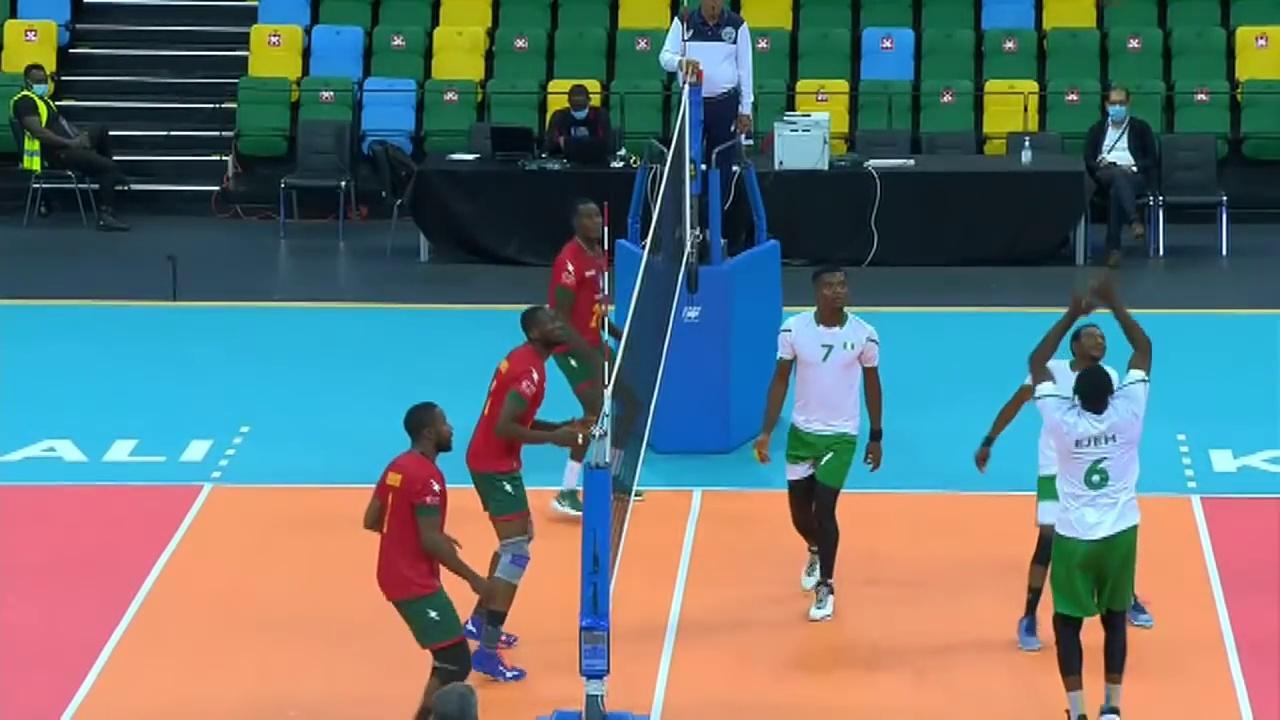player: (1006, 322, 1154, 646), (1035, 298, 1149, 711), (469, 303, 594, 679), (758, 268, 886, 622), (364, 403, 508, 701), (536, 186, 644, 512)
refree: (659, 0, 756, 187)
